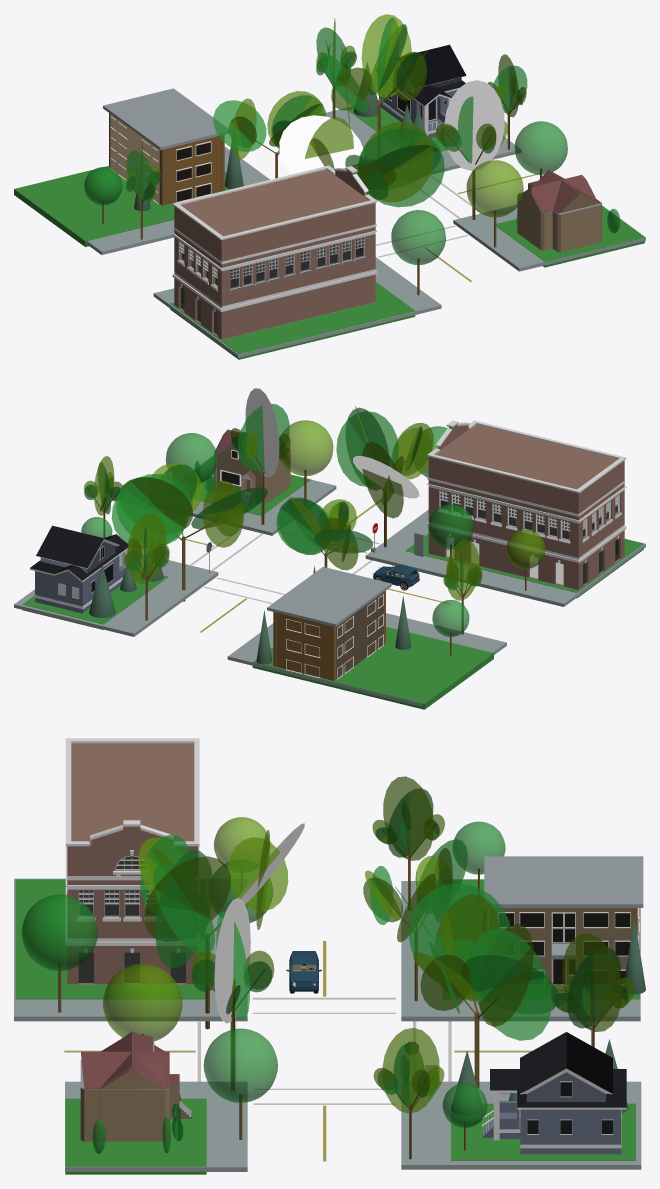
3 renders of one model, top to bottom at view 1: azimuth 30°, elevation 25°; view 2: azimuth 150°, elevation 25°; view 3: azimuth 270°, elevation 25°, orthographic. The views are drawn at different scales.
Parts seen in each view (by area): view 1: pasted__pCube42Shape, pCubeShape172, pasted__pCubeShape33, pasted__pCubeShape5, pCube64Shape, pCubeShape205, pCubeShape75, pCylinderShape105, pCylinderShape93, pCylinderShape103, pCylinderShape107, pCubeShape173 (+43 smaller); view 2: pasted__pCube42Shape, pCubeShape172, pasted__pCubeShape33, pasted__pCubeShape5, pasted__pCubeShape28, pCubeShape205, pasted__pCubeShape2, pCubeShape173, pCylinderShape40, pasted__pCubeShape27, pCylinderShape104, pCubeShape188 (+49 smaller); view 3: pasted__pCube42Shape, pCube64Shape, pCubeShape75, pCubeShape205, pasted__pCubeShape2, pCylinderShape40, pCubeShape74, pCylinderShape79, pasted__pCubeShape27, pasted__pCubeShape28, pasted__pCubeShape29, pCubeShape187 (+52 smaller).
Part boxes in pixels (x1,y1,x2,y2): pasted__pCube42Shape: [174, 169, 375, 267]; pCubeShape172: [14, 166, 244, 246]; pasted__pCubeShape33: [174, 234, 375, 306]; pasted__pCubeShape5: [174, 274, 375, 339]; pCube64Shape: [517, 170, 601, 252]; pCubeShape205: [103, 88, 228, 150]; pCubeShape75: [170, 282, 415, 359]; pCylinderShape105: [358, 128, 444, 207]; pCylinderShape93: [444, 80, 504, 170]; pCylinderShape103: [361, 122, 433, 202]; pCylinderShape107: [279, 115, 362, 174]; pCubeShape173: [109, 113, 224, 205]; pasted__pCube42Shape: [428, 424, 624, 520]; pCubeShape172: [252, 627, 493, 709]; pasted__pCubeShape33: [428, 487, 624, 557]; pasted__pCubeShape5: [428, 527, 624, 589]; pasted__pCubeShape28: [365, 496, 645, 606]; pCubeShape205: [267, 567, 391, 626]; pasted__pCubeShape2: [14, 551, 218, 636]; pCubeShape173: [273, 591, 385, 680]; pCylinderShape40: [111, 473, 191, 548]; pasted__pCubeShape27: [227, 613, 506, 707]; pCylinderShape104: [336, 411, 398, 486]; pCubeShape188: [335, 592, 383, 679]; pasted__pCube42Shape: [67, 743, 198, 884]; pCube64Shape: [80, 1031, 169, 1141]; pCubeShape75: [15, 879, 206, 999]; pCubeShape205: [484, 856, 643, 907]; pasted__pCubeShape2: [401, 1081, 641, 1169]; pCylinderShape40: [469, 928, 551, 1040]; pCubeShape74: [65, 1098, 206, 1174]; pCylinderShape79: [408, 883, 510, 976]; pasted__pCubeShape27: [401, 881, 640, 1021]; pasted__pCubeShape28: [14, 878, 247, 1021]; pasted__pCubeShape29: [65, 1081, 247, 1171]; pCubeShape187: [496, 908, 632, 984].
Size of what is drawn, in the model's own units: 13.37 by 4.52 by 12.34.
33 materials, 1 textured.
